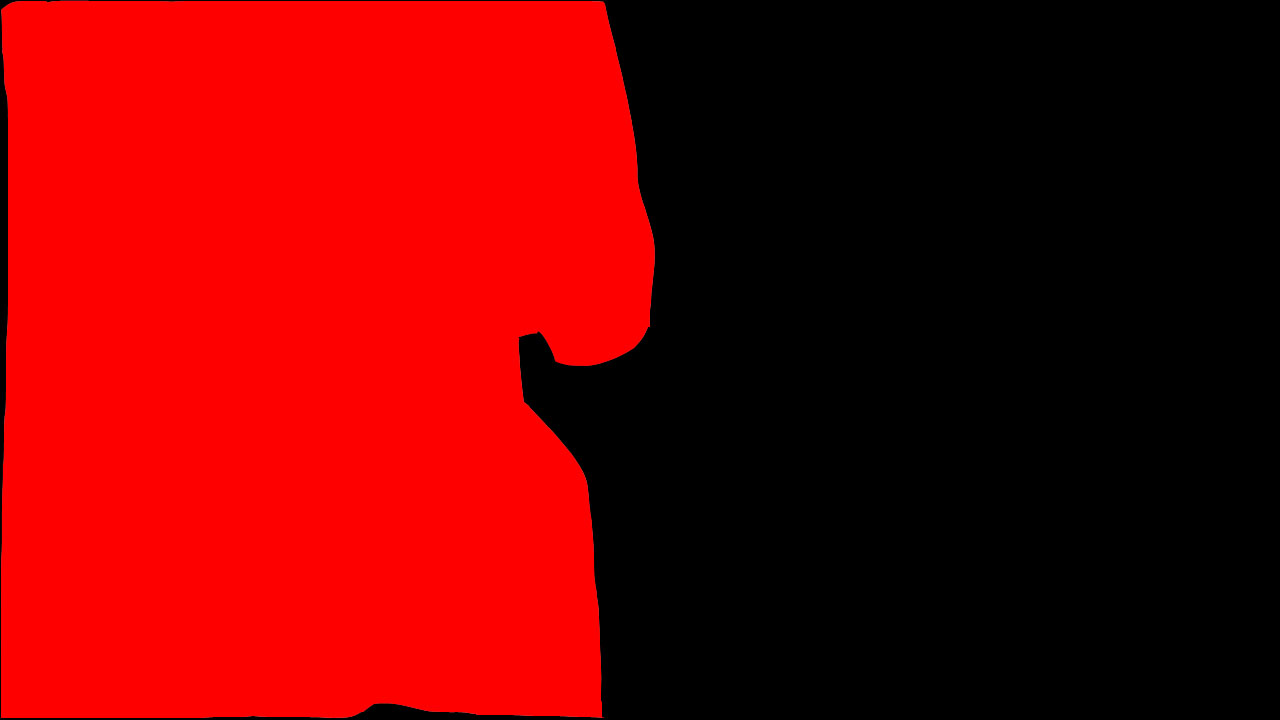uniforme_ifmt: (2, 1, 653, 720)
